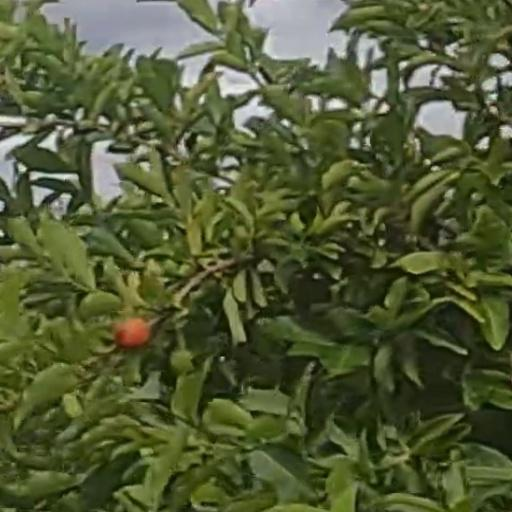acerola: (118, 319, 149, 346)
